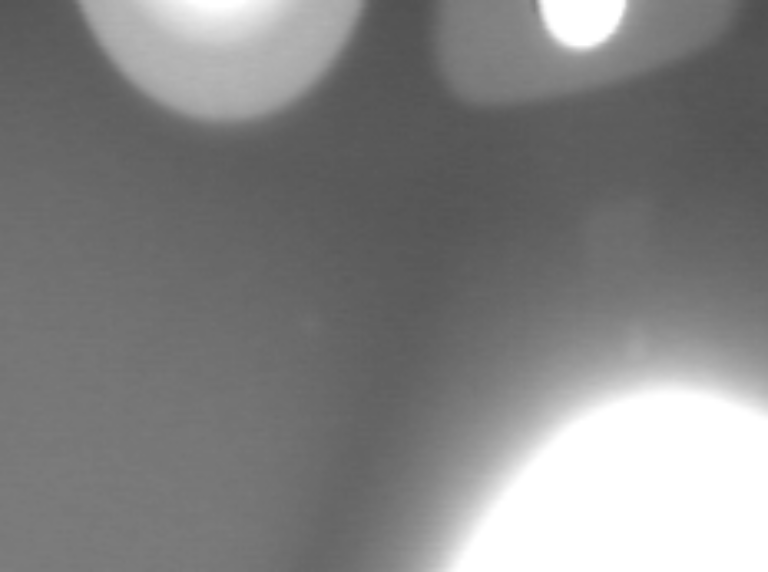defect: (298, 314, 331, 369)
